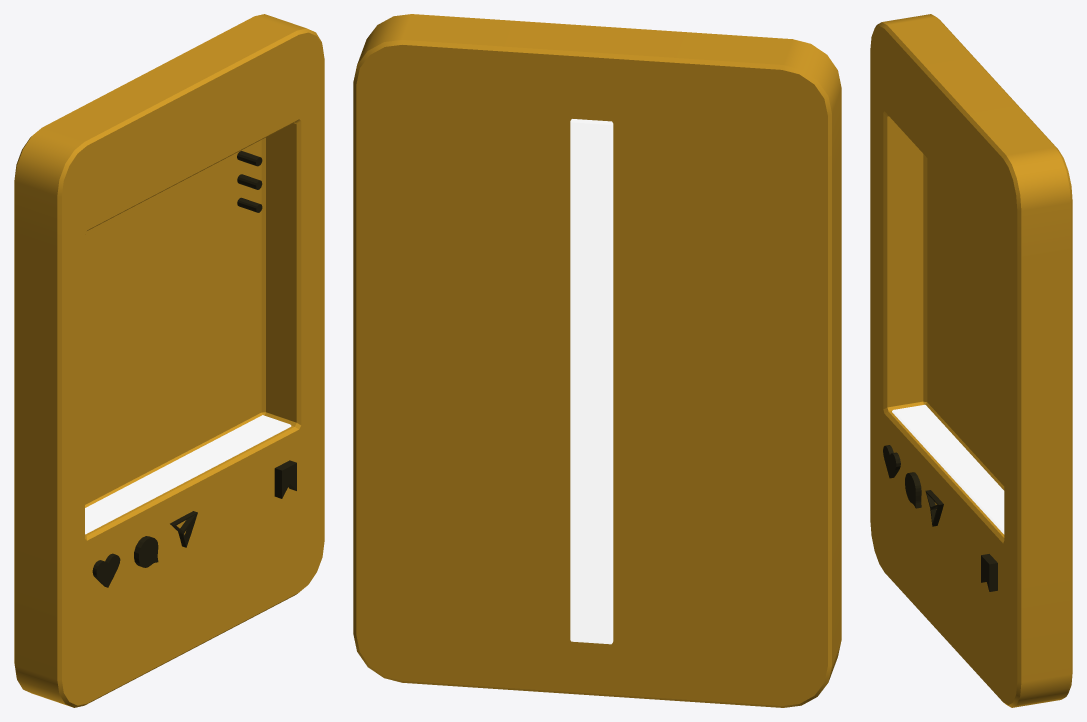
Rendered from lamp_insta_l1.glb.
3 views of the same model, side by side, from view 1: azimuth 30°, elevation 25°; view 2: azimuth 150°, elevation 25°; view 3: azimuth 270°, elevation 25° (orthographic). The views are drawn at different scales.
Parts seen in each view (by area): view 1: frame_1.149, frame_1_emissive, frame_1_btns; view 2: frame_1.149, frame_1_emissive; view 3: frame_1.149, frame_1_emissive, frame_1_btns.
Part boxes in pixels (x1,y1,x2,y2): frame_1.149: [14, 14, 324, 707]; frame_1_emissive: [85, 415, 291, 534]; frame_1_btns: [92, 150, 296, 587]; frame_1.149: [353, 14, 841, 707]; frame_1_emissive: [570, 119, 613, 644]; frame_1.149: [870, 14, 1072, 707]; frame_1_emissive: [892, 404, 1004, 534]; frame_1_btns: [883, 445, 997, 591].
Bounding box in the file's own units: 2.37 × 3.54 × 1.18.
